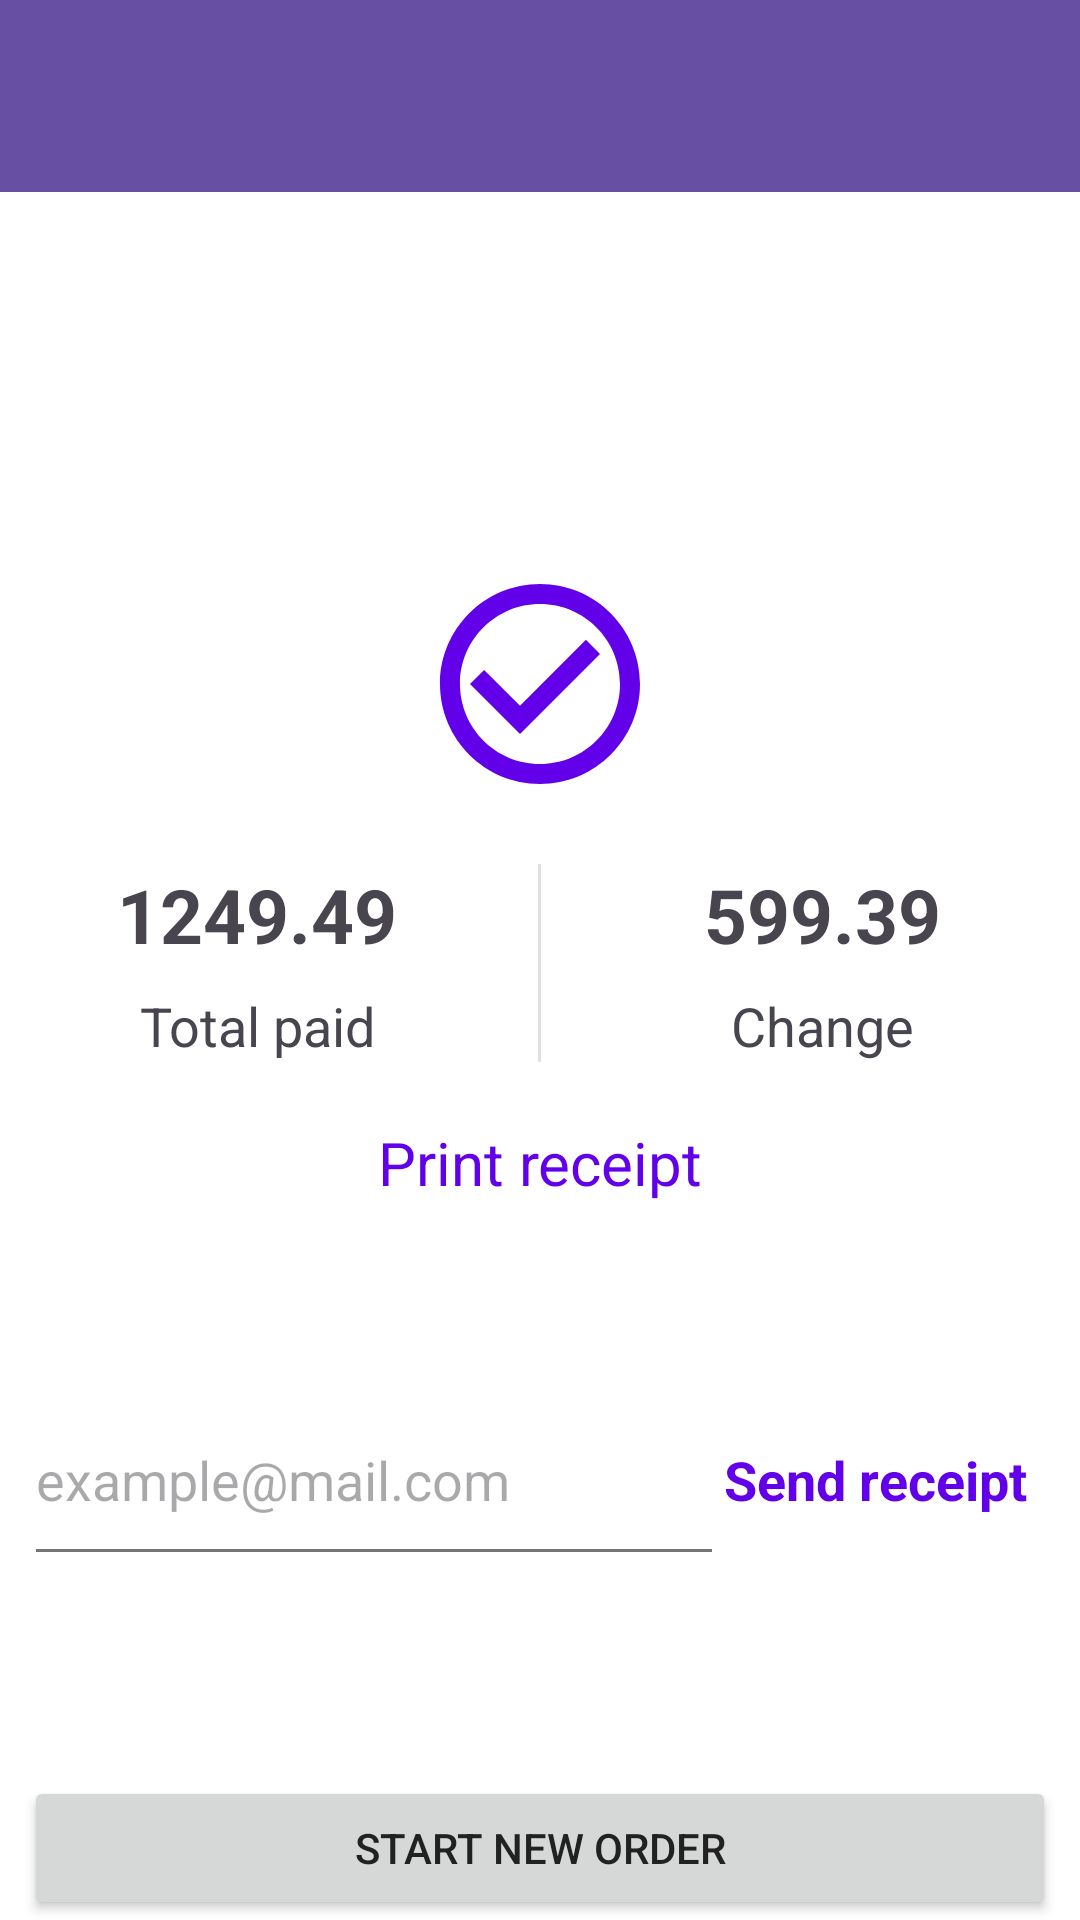

Icons on this 1080px x 1920px Android screen, each with the point to tap as (x=x, y=y):
check circle: (x=539, y=684)
